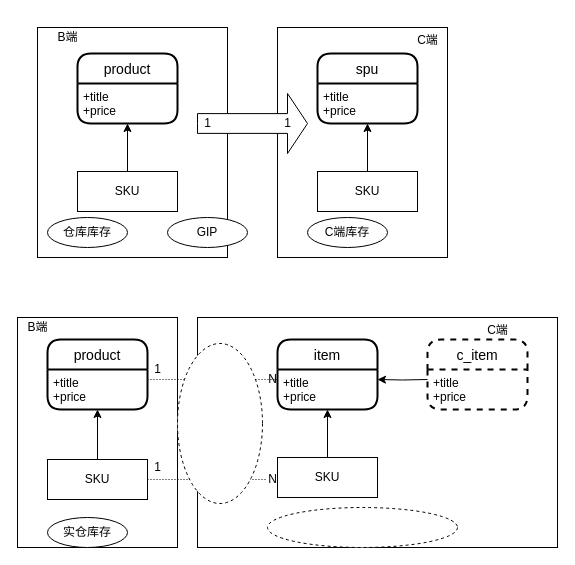
This 575x565 diagram has some shape labels left out. Each missing label, with the centre of its shape:
"mapping" belongs at (x=219, y=423).
"库存中心" belongs at (x=362, y=527).
